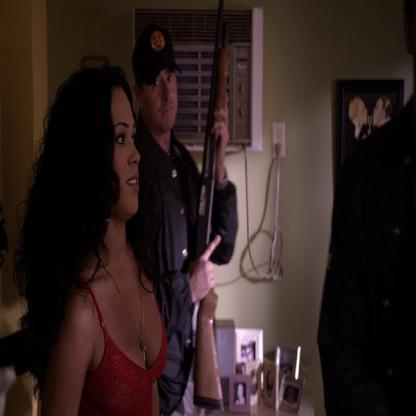Guns: (190, 0, 234, 413)
